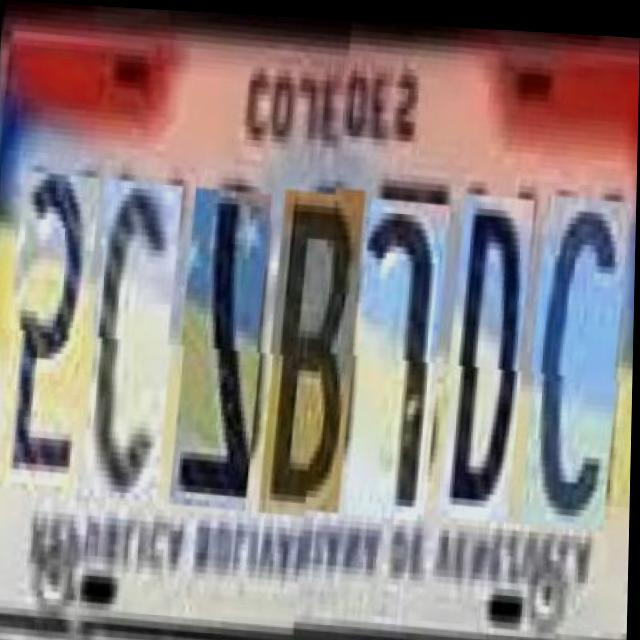5: (0, 163, 98, 487)
7: (169, 176, 270, 500)
b: (258, 176, 362, 507)
c: (519, 182, 627, 520), (80, 169, 181, 494)
d: (437, 184, 531, 513)
j: (345, 189, 447, 513)
